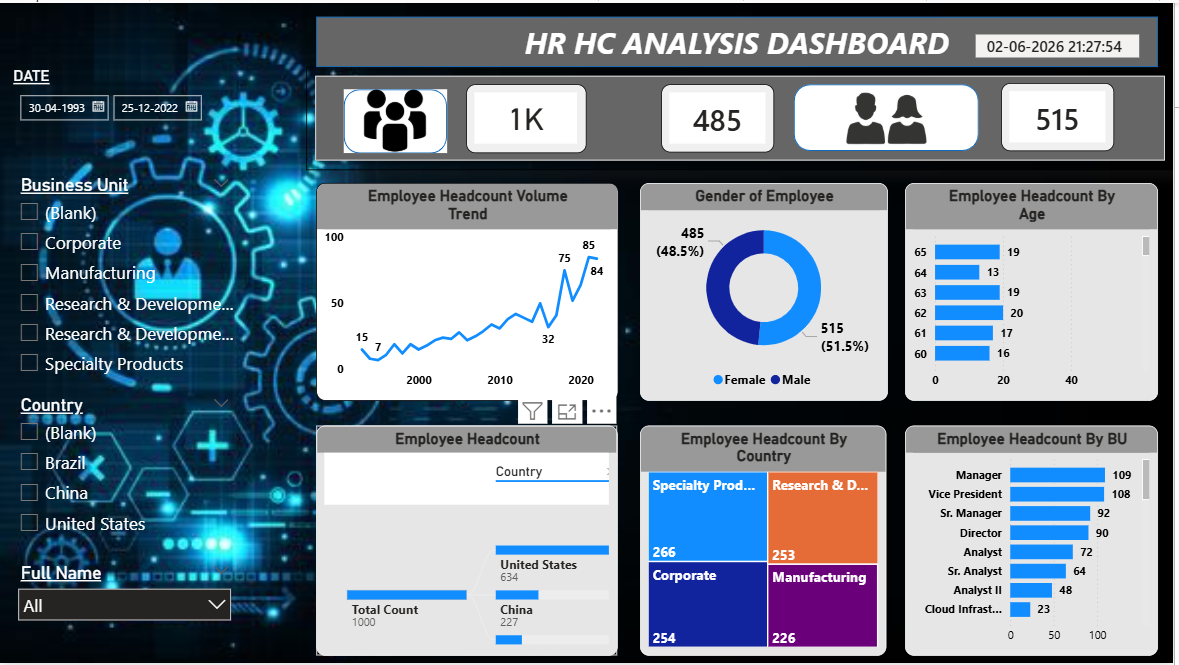

Layout of this report page (visuals, bound fields, positions):
{"tool":"powerbi","page":{"name":"HR ANALYSIS","canvas":[1280,720],"ordinal":0},"visuals":[{"type":"shape","box":[333.4,70,946.8,112.5],"z":0},{"type":"cardVisual","fields":{"Data":["CountNonNull(Employee Data.Employee ID)"]},"box":[508.6,88.6,130.9,75],"z":1000},{"type":"lineChart","title":" Employee Headcount Volume Trend  ","fields":{"Category":["Employee Data.Hire Date.Variation.Date Hierarchy.Year"],"Y":["CountNonNull(Employee Data.Employee ID)"]},"box":[344.4,196.2,329.3,237.4],"z":2000},{"type":"donutChart","title":" Gender of Employee","fields":{"Category":["Employee Data.Gender"],"Y":["CountNonNull(Employee Data.Employee ID)"]},"box":[698.5,196.2,270.3,237.4],"z":3000},{"type":"clusteredBarChart","title":" Employee Headcount By Age","fields":{"Category":["Employee Data.Age"],"Y":["CountNonNull(Employee Data.Employee ID)"]},"box":[986.6,196.2,275.8,237.4],"z":4000},{"type":"decompositionTreeVisual","title":" Employee Headcount","fields":{"Analyze":["CountNonNull(Employee Data.Country)"],"ExplainBy":["Employee Data.Country"]},"box":[345,460.8,328.6,250.9],"z":5000},{"type":"treemap","title":" Employee Headcount By Country","fields":{"Group":["Employee Data.Business Unit"],"Values":["CountNonNull(Employee Data.Employee ID)"]},"box":[698.5,461.1,269,251.1],"z":6000},{"type":"clusteredBarChart","title":" Employee Headcount By BU","fields":{"Category":["Employee Data.Job Title"],"Y":["CountNonNull(Employee Data.Employee ID)"]},"box":[986.6,461.1,275.8,251.1],"z":7000},{"type":"shape","box":[374.6,94.7,112.5,70],"z":8000},{"type":"image","box":[363.6,93.3,133.1,71.4],"z":9000},{"type":"shape","box":[865.9,89.2,201.7,72.7],"z":10000},{"type":"image","box":[922.1,70,90.6,112.5],"z":11000},{"type":"cardVisual","title":"M","fields":{"Data":["Employee Data.total_male_count"]},"box":[721.8,89.2,123.5,74.1],"z":12000},{"type":"cardVisual","fields":{"Data":["Employee Data.total_female_count"]},"box":[1092.3,87.8,123.5,74.1],"z":13000},{"type":"shape","box":[344.4,15.1,918,54.9],"z":14000},{"type":"slicer","fields":{"Values":["Employee Data.Business Unit"]},"box":[9.6,182.5,252.5,234.6],"z":15000},{"type":"slicer","fields":{"Values":["Employee Data.Country"]},"box":[9.6,422.6,252.5,182.5],"z":16000},{"type":"slicer","fields":{"Values":["Employee Data.Full Name"]},"box":[9.6,605.1,252.5,91.9],"z":17000},{"type":"slicer","title":"DATE","fields":{"Values":["Employee Data.Hire Date"]},"box":[9.6,70,288.2,91.9],"z":18000},{"type":"cardVisual","fields":{"Rows":["Query1.Last Refresh Data"]},"box":[1059.4,9.5,188.2,106.3],"z":19000}]}

Visuals, with their boxes in screenshot pixels (x1, y1, x2, y2), scaled from the page's 1280x720 canvas onto the 1179x665 screenshot:
shape: box(307, 65, 1178, 169)
cardVisual - CountNonNull(Employee Data.Employee ID): box(468, 82, 589, 151)
" Employee Headcount Volume Trend  " lineChart: box(317, 181, 621, 400)
" Gender of Employee" donutChart: box(643, 181, 892, 400)
" Employee Headcount By Age" clusteredBarChart: box(909, 181, 1163, 400)
" Employee Headcount" decompositionTreeVisual: box(318, 426, 620, 657)
" Employee Headcount By Country" treemap: box(643, 426, 891, 658)
" Employee Headcount By BU" clusteredBarChart: box(909, 426, 1163, 658)
shape: box(345, 87, 449, 152)
image: box(335, 86, 458, 152)
shape: box(798, 82, 983, 150)
image: box(849, 65, 933, 169)
"M" cardVisual: box(665, 82, 779, 151)
cardVisual - Employee Data.total_female_count: box(1006, 81, 1120, 150)
shape: box(317, 14, 1163, 65)
slicer - Employee Data.Business Unit: box(9, 169, 241, 385)
slicer - Employee Data.Country: box(9, 390, 241, 559)
slicer - Employee Data.Full Name: box(9, 559, 241, 644)
"DATE" slicer: box(9, 65, 274, 150)
cardVisual - Query1.Last Refresh Data: box(976, 9, 1149, 107)
